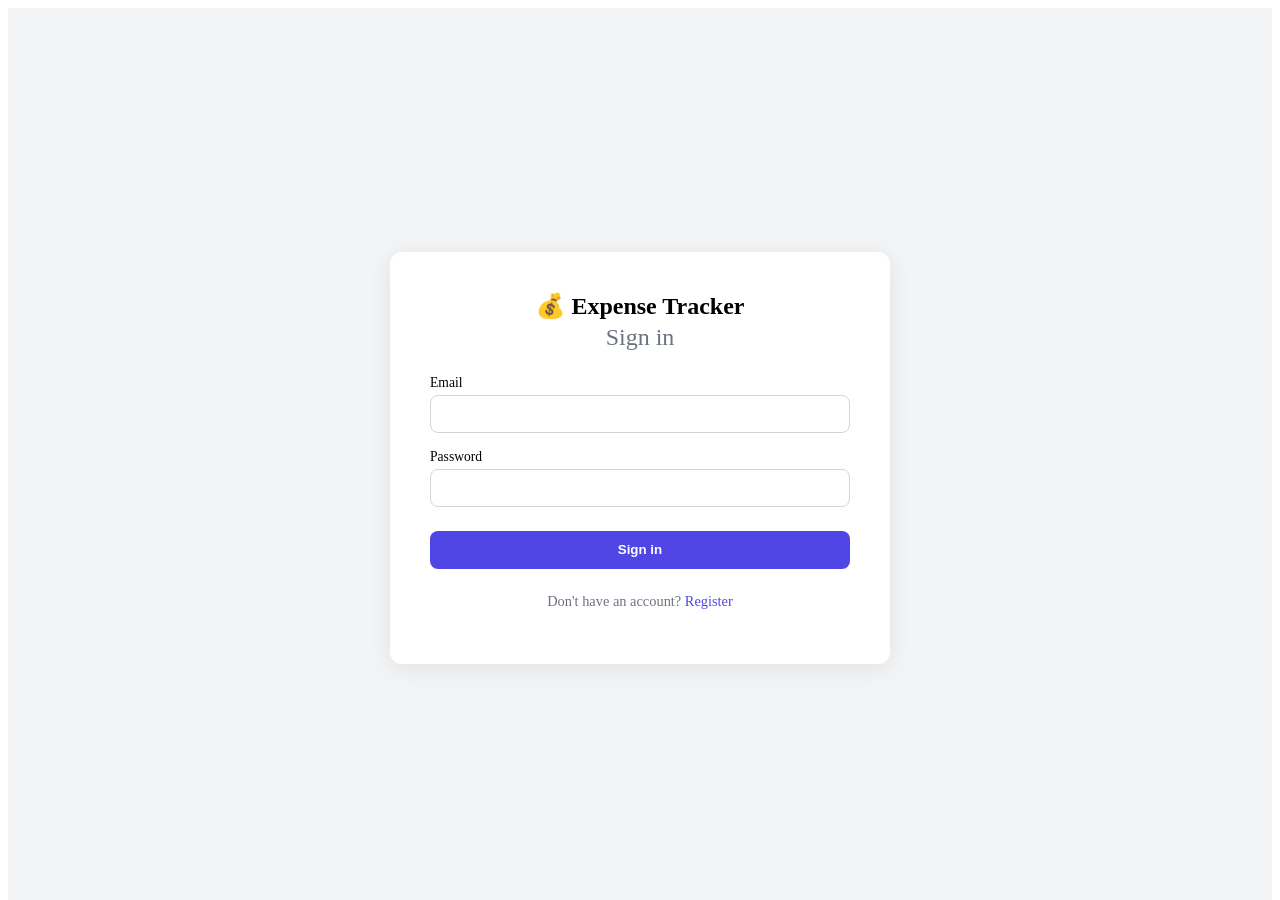
LoginPage › shows error message on failed login
Type "test@test.com" into the field labelled "Email" at (640, 414), box [430,395,850,433]
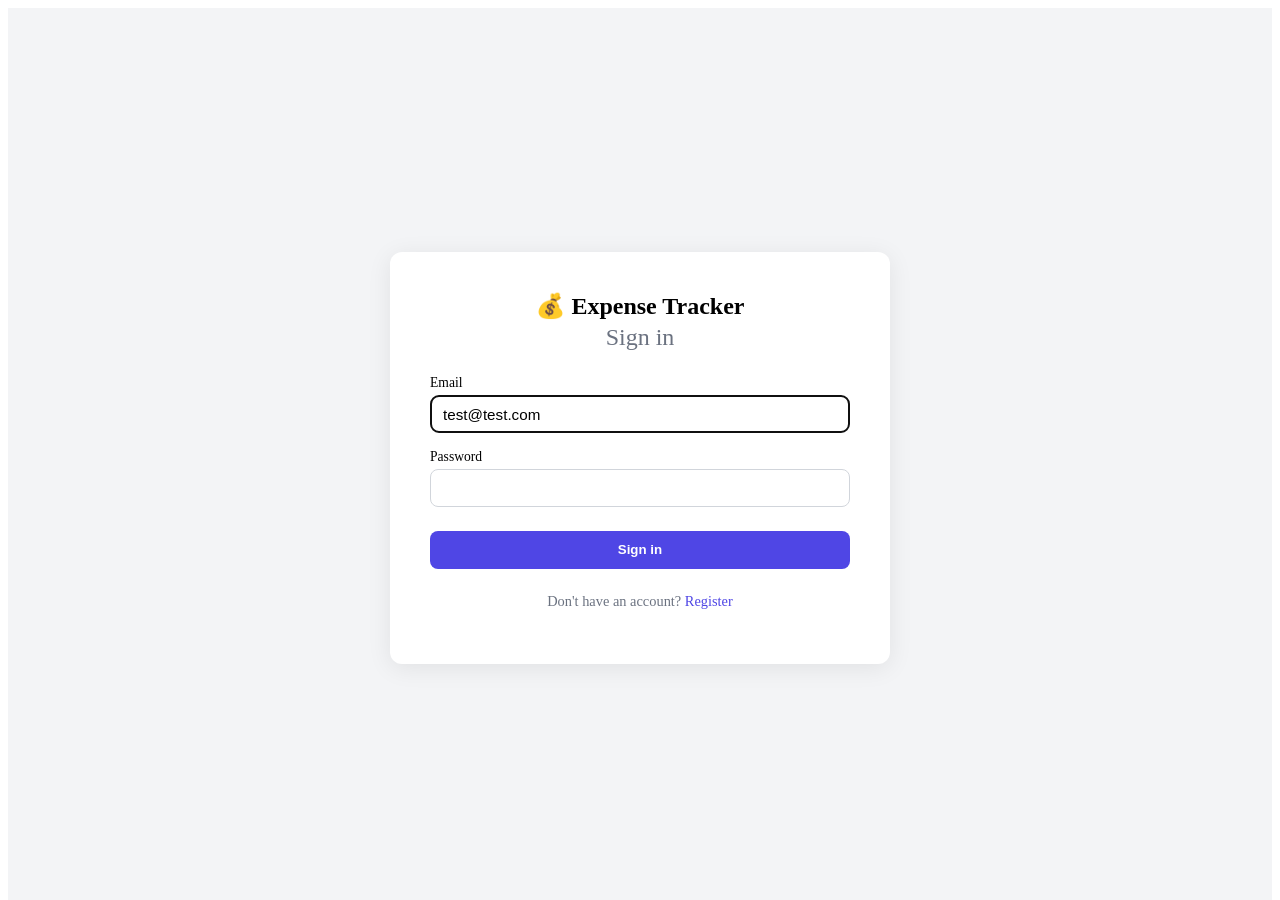
Type "wrongpassword" into the password field labelled "Password" at (640, 488), box [430,469,850,507]
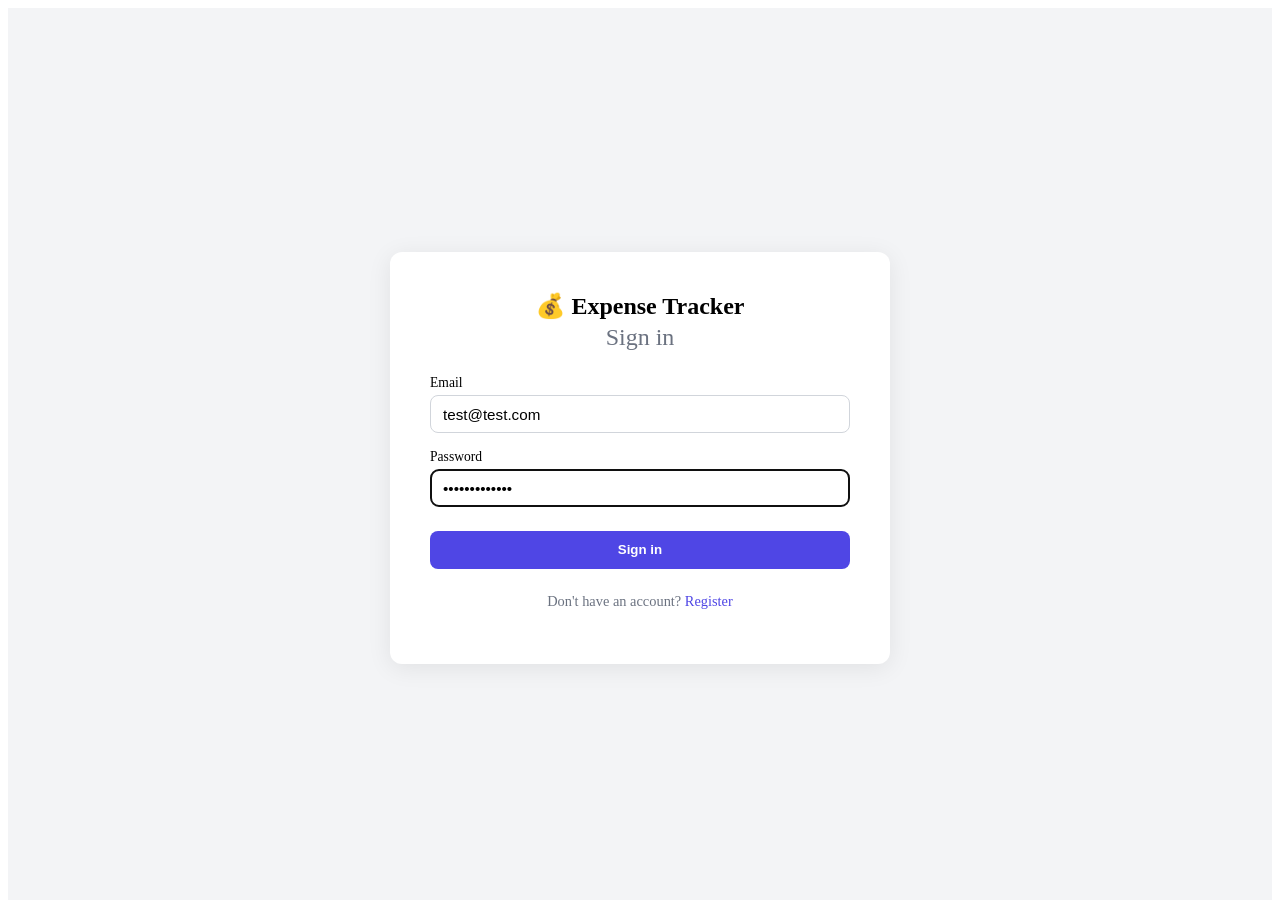
Click the button "Sign in" at (640, 550), box [430,531,850,569]
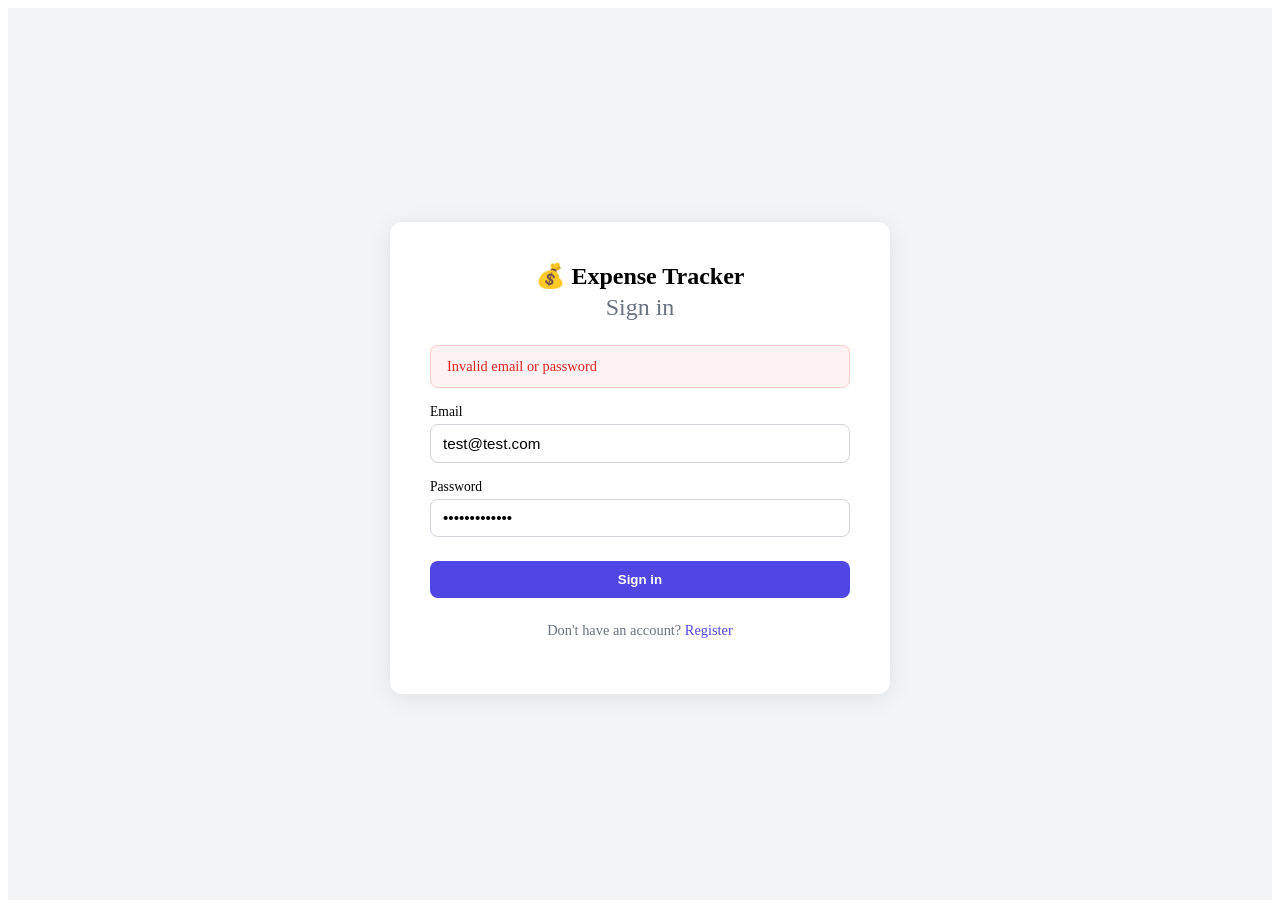
expect the text "Invalid email or password" is shown: met, box [430,345,850,388]
